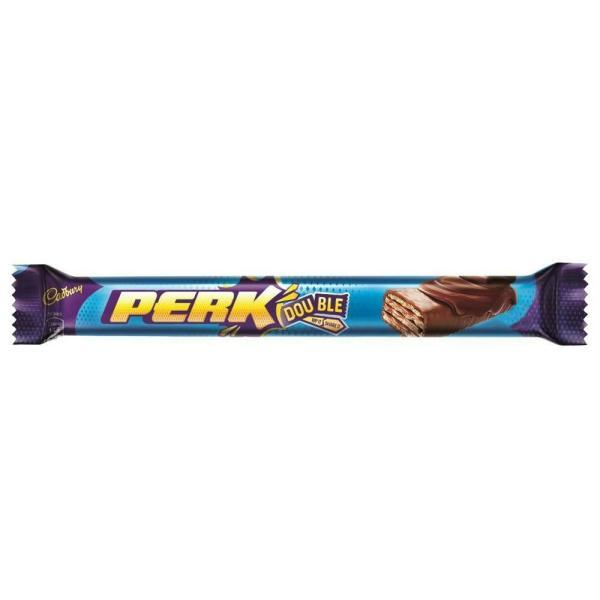Perk: (14, 261, 588, 347)
